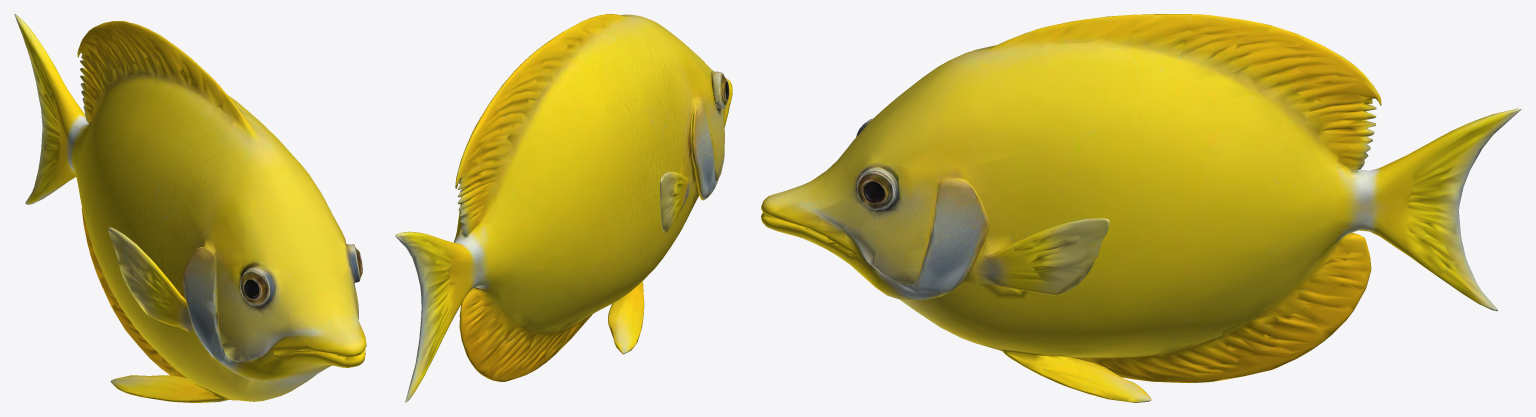
The model's file is YellowTang.glb.
The picture shows the model from 3 angles, left to right: view 1: azimuth 30°, elevation 25°; view 2: azimuth 150°, elevation 25°; view 3: azimuth 270°, elevation 25°; orthographic projection. The views are drawn at different scales.
Bounding box in the file's own units: 0.5921 × 1.02 × 1.9.
1 material, 1 textured.
